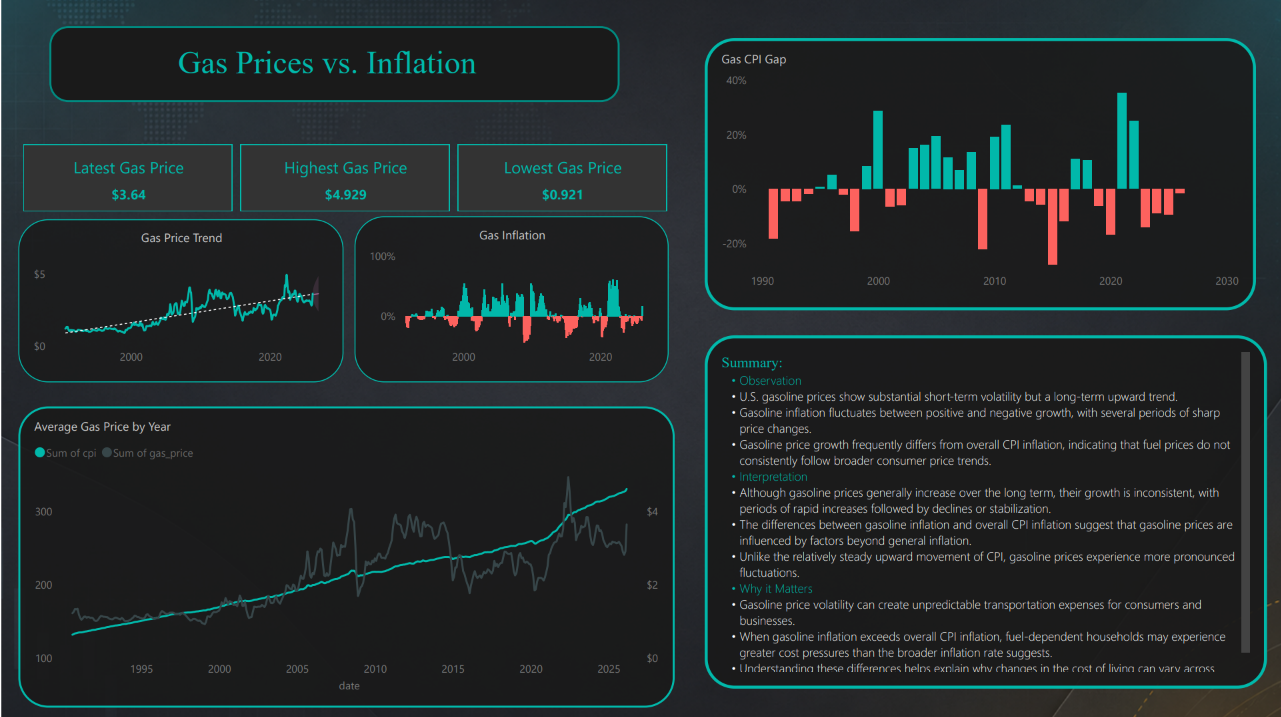

Layout of this report page (visuals, bound fields, positions):
{"tool":"powerbi","page":{"name":"Gas Prices","canvas":[1280,720],"ordinal":2},"visuals":[{"type":"shape","box":[48.1,28.2,569.9,75.7],"z":0},{"type":"lineChart","title":"Gas Price Trend","fields":{"Y":["Avg(cost_of_living_monthly_analysis.gas_price)"],"Category":["cost_of_living_monthly_analysis.date.Variation.Date Hierarchy.Year"]},"box":[17.3,221.5,324.9,162.4],"z":1000},{"type":"columnChart","title":"Gas Inflation","fields":{"Category":["cost_of_living_monthly_analysis.date.Variation.Date Hierarchy.Year"],"Y":["cost_of_living_monthly_analysis.Gas YoY %"]},"box":[352.7,218.5,314,165.5],"z":2000},{"type":"lineChart","title":"Average Gas Price by Year","fields":{"Category":["cost_of_living_monthly_analysis.date.Variation.Date Hierarchy.Year"],"Y":["Sum(cost_of_living_monthly_analysis.cpi)"],"Y2":["Sum(cost_of_living_monthly_analysis.gas_price)"]},"box":[17.5,407.7,655.3,301.1],"z":3000},{"type":"cardVisual","fields":{"Data":["cost_of_living_monthly_analysis.Latest Gas Price","cost_of_living_monthly_analysis.Highest Gas Price","cost_of_living_monthly_analysis.Lowest Gas Price"]},"box":[17.3,140.6,655,77.8],"z":4000},{"type":"textbox","box":[60.5,40.6,530.6,79.3],"z":5000},{"type":"textbox","box":[702.8,336.7,561.9,353.5],"z":6000},{"type":"columnChart","title":"Gas CPI Gap ","fields":{"Category":["Calendar.Year"],"Y":["Avg(cost_of_living_monthly_analysis.Gas CPI YoY Gap)"]},"box":[703,40.3,551.4,271.7],"z":7000}]}

Visuals, with their boxes in screenshot pixels (x1, y1, x2, y2), scaled from the page's 1280x720 canvas onto the 1281x717 screenshot:
shape: 48:28:618:103
"Gas Price Trend" lineChart: 17:221:342:382
"Gas Inflation" columnChart: 353:218:667:382
"Average Gas Price by Year" lineChart: 18:406:673:706
cardVisual - cost_of_living_monthly_analysis.Latest Gas Price x cost_of_living_monthly_analysis.Highest Gas Price: 17:140:673:217
textbox: 61:40:592:119
textbox: 703:335:1266:687
"Gas CPI Gap " columnChart: 704:40:1255:311
